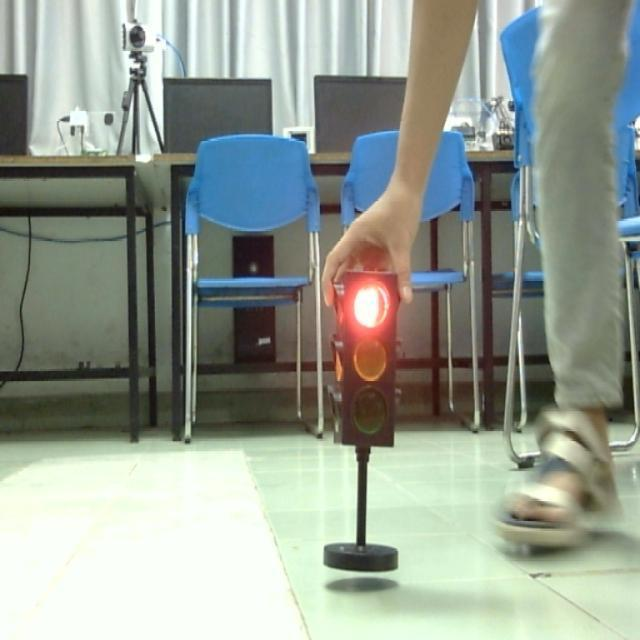red_light: (330, 268, 403, 461)
